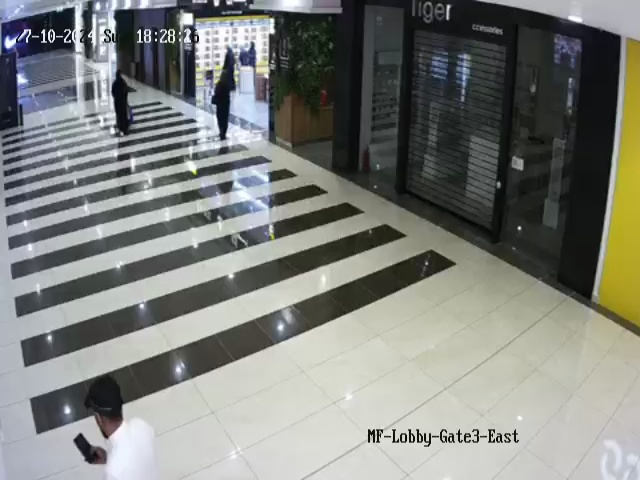female: (211, 67, 235, 141), (111, 69, 134, 137), (237, 41, 266, 80), (220, 43, 236, 82)
male: (78, 375, 160, 480)
